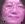without_mask: (1, 2, 25, 24)
